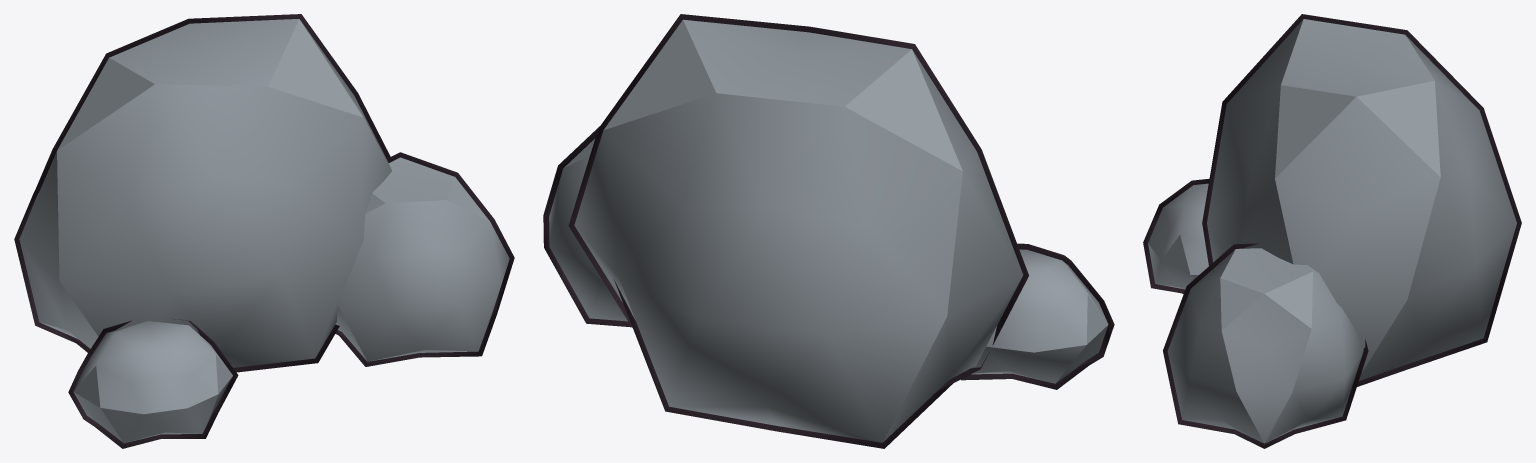
The model's file is SM_Island_RockCluster_A.fbx.
3 views of the same model, side by side, from view 1: azimuth 30°, elevation 25°; view 2: azimuth 150°, elevation 25°; view 3: azimuth 270°, elevation 25° (orthographic). The views are drawn at different scales.
Visible parts, largest first — view 1: SM_Island_RockCluster_A, SM_Island_RockCluster_A_Outline; view 2: SM_Island_RockCluster_A, SM_Island_RockCluster_A_Outline; view 3: SM_Island_RockCluster_A, SM_Island_RockCluster_A_Outline.
Part boxes in pixels (x1,y1,x2,y2): SM_Island_RockCluster_A: [19, 19, 509, 443]; SM_Island_RockCluster_A_Outline: [14, 14, 514, 448]; SM_Island_RockCluster_A: [549, 19, 1108, 442]; SM_Island_RockCluster_A_Outline: [543, 14, 1114, 448]; SM_Island_RockCluster_A: [1148, 19, 1516, 443]; SM_Island_RockCluster_A_Outline: [1143, 14, 1521, 448].
Bounding box in the file's own units: 1.74 × 1.12 × 1.32.
2 materials, 1 textured.
